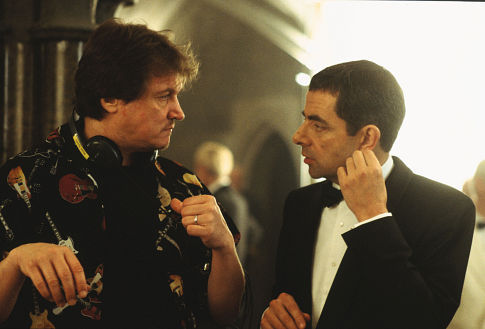35: (110, 45, 191, 161)
40: (283, 73, 365, 190)
Coat: (265, 145, 480, 329)
Male: (283, 73, 365, 190), (110, 45, 191, 161)
Ring: (193, 214, 201, 226)
Shirt: (1, 128, 255, 329)
Tie: (317, 184, 358, 210)
